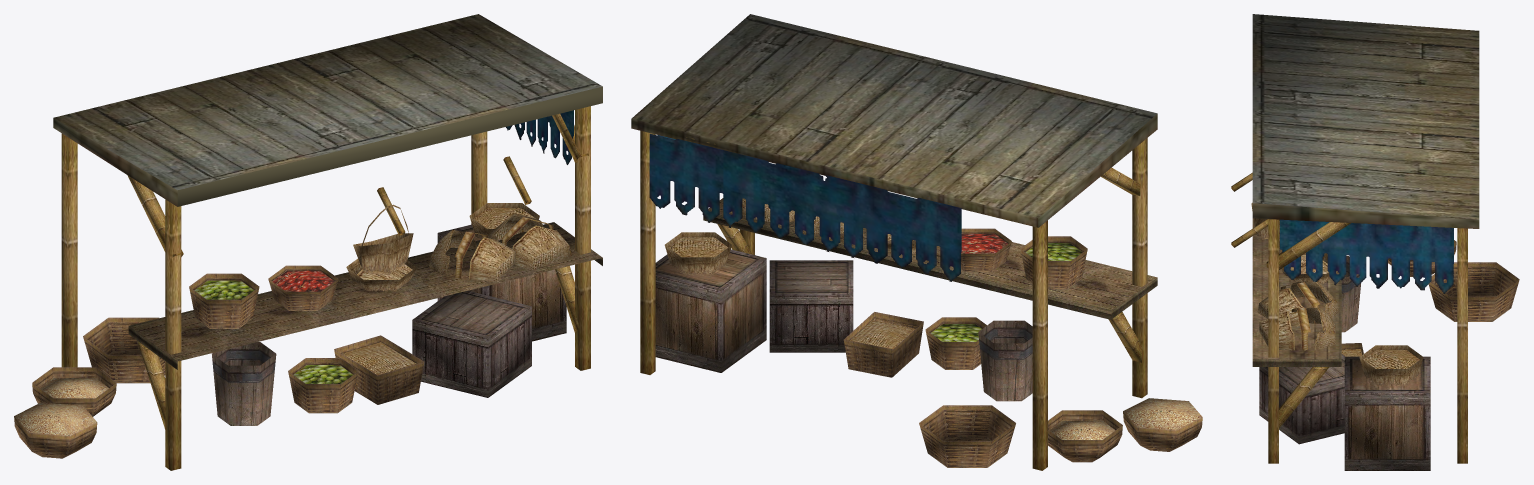
File: w_etc03.glb
3 renders of one model, left to right at view 1: azimuth 30°, elevation 25°; view 2: azimuth 150°, elevation 25°; view 3: azimuth 270°, elevation 25°, orthographic. The views are drawn at different scales.
Visible parts, largest first — view 1: w_etc03; view 2: w_etc03; view 3: w_etc03.
Boxes of the visible parts, box(x1,y1,x2,y2) form: w_etc03: box(14, 14, 602, 470); w_etc03: box(631, 14, 1202, 470); w_etc03: box(1231, 14, 1519, 470).
Size of the model in its own units: 5.57 by 2.85 by 2.84.
8 materials, 8 textured.
